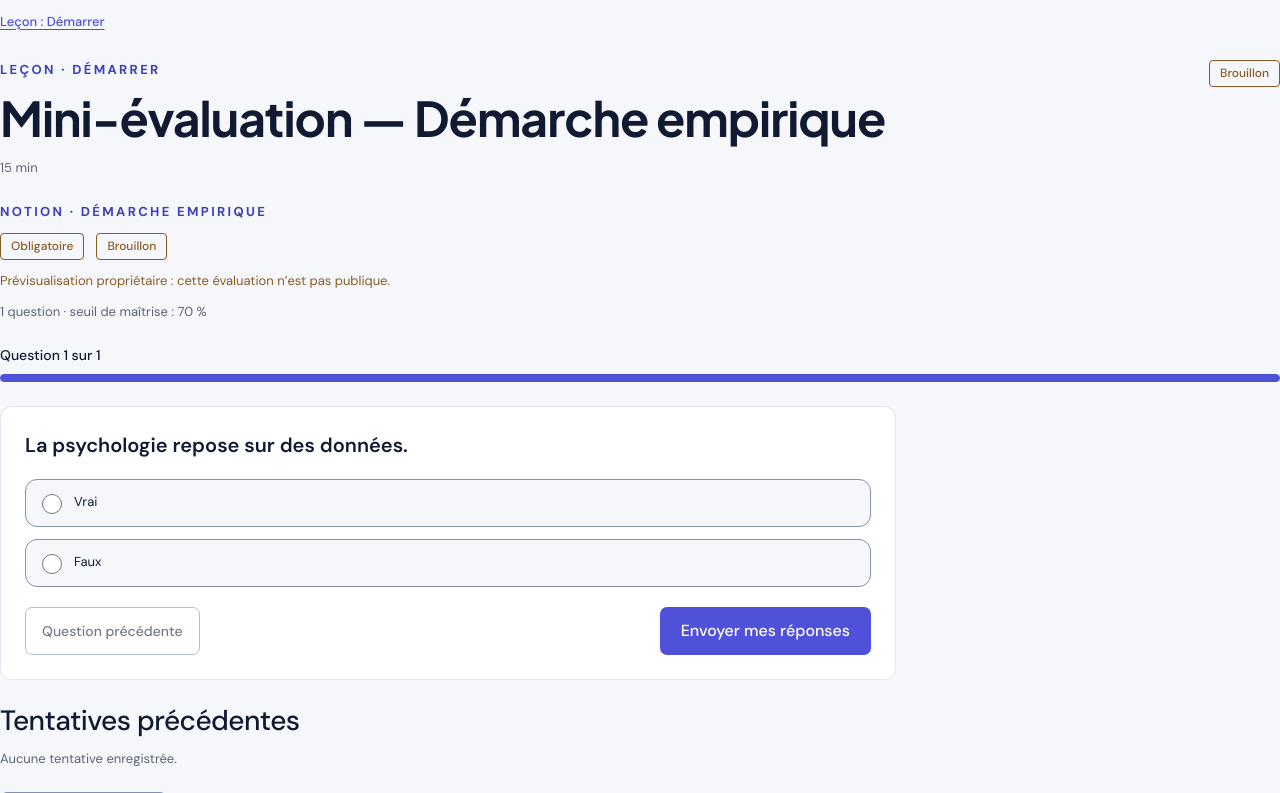
ConceptAssessmentPage › permet au propriétaire de passer une banque brouillon via la prévisualisation
Check: the heading "Mini-évaluation — Démarche empirique" is shown, box [0,86,886,148]
Check: the link "Premiers pas" is not shown
Click the radio button labelled "Vrai" at (52, 504), box [42,494,62,514]
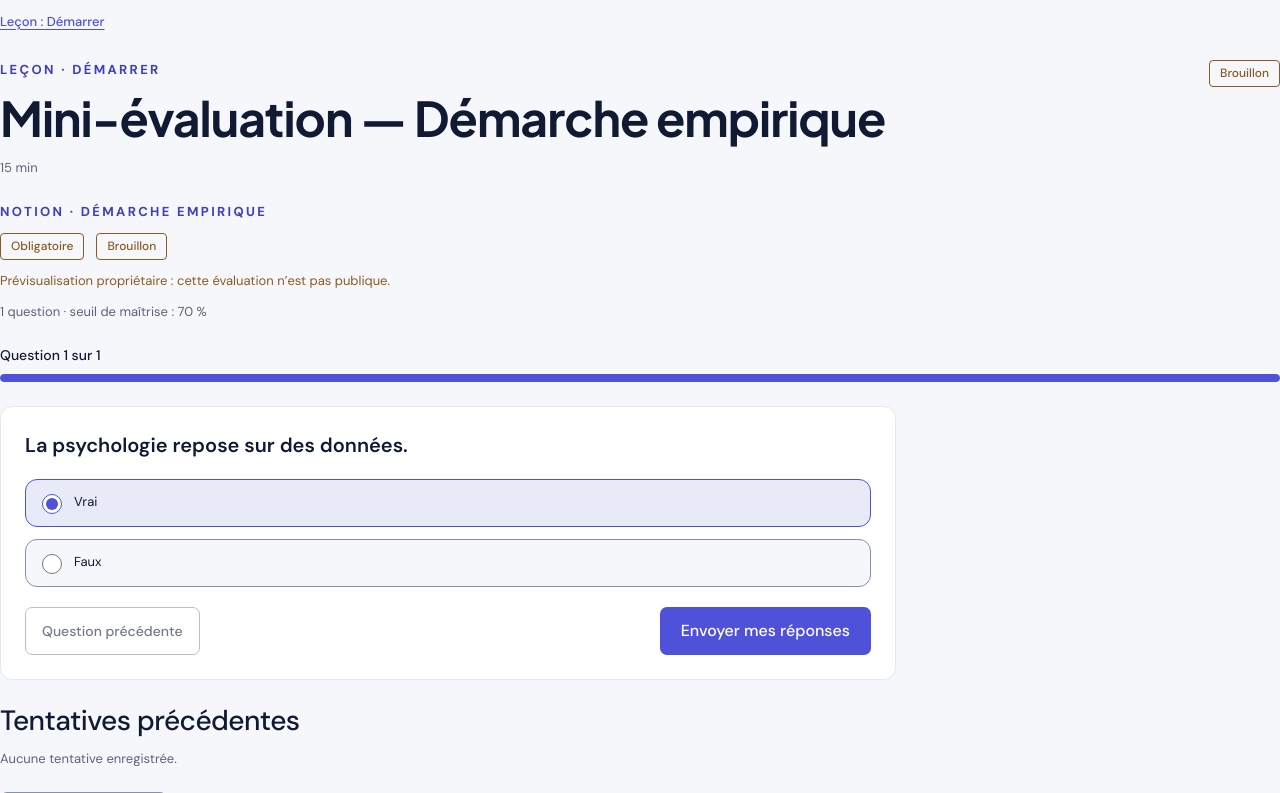
Click the button "Envoyer mes réponses" at (765, 631), box [660,607,871,655]
(page scrolled)
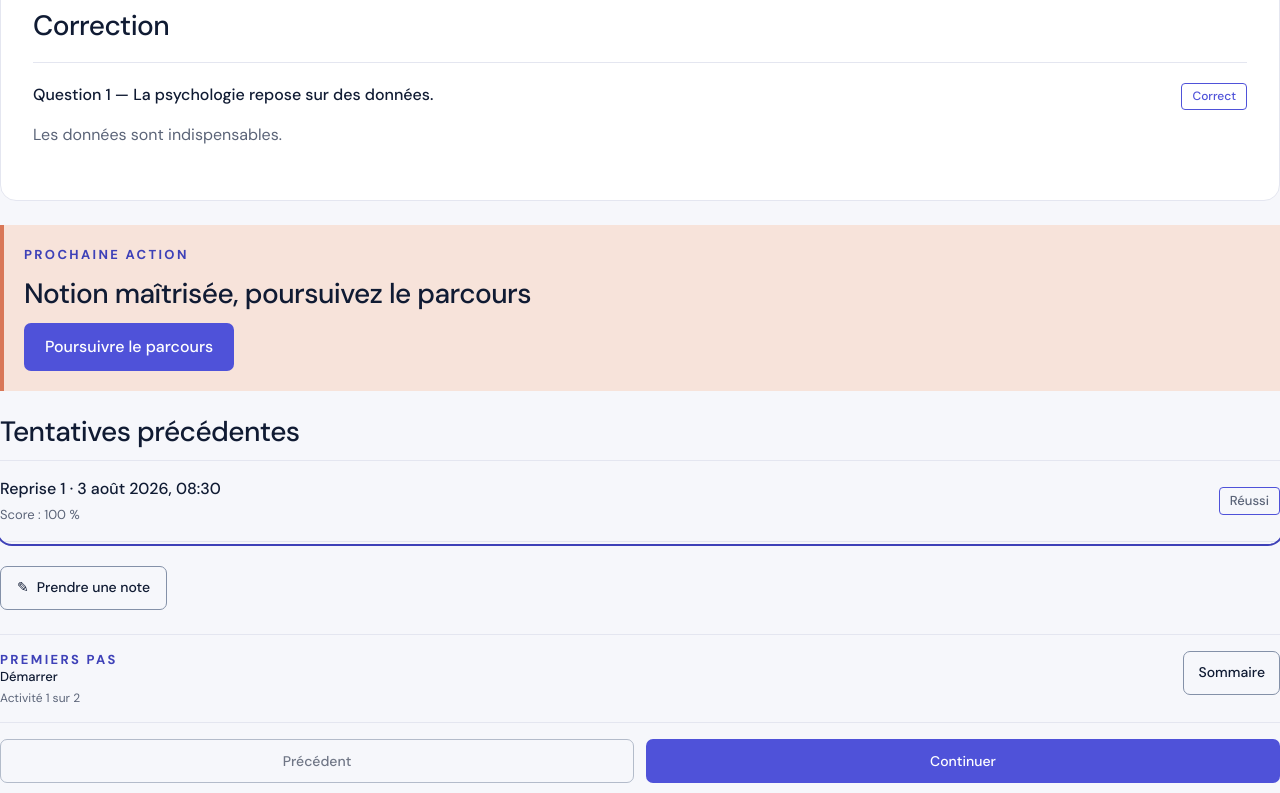
Check: the text "Les données sont indispensables." is shown, box [33,124,282,145]
Check: the heading "Notion maîtrisée, poursuivez le parcours" is shown, box [24,277,531,310]
Check: the number of links "Continuer" is 1, box [646,740,1279,784]
